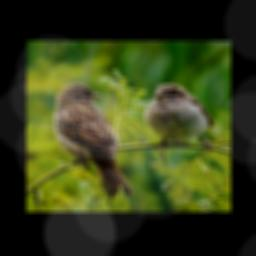Sparrow: (54, 83, 133, 198), (144, 84, 215, 152)
